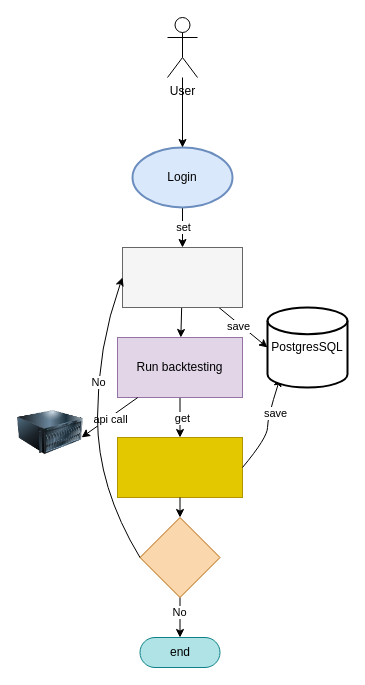
Some shapes in this 365 by 685 pixel diagram are drawn without their labels. The centre of each missing label's shape, as x and y in pixels:
performance metrics: the point at 179,467
Strategy Parameter: the point at 182,277
Test again?: the point at 179,557
